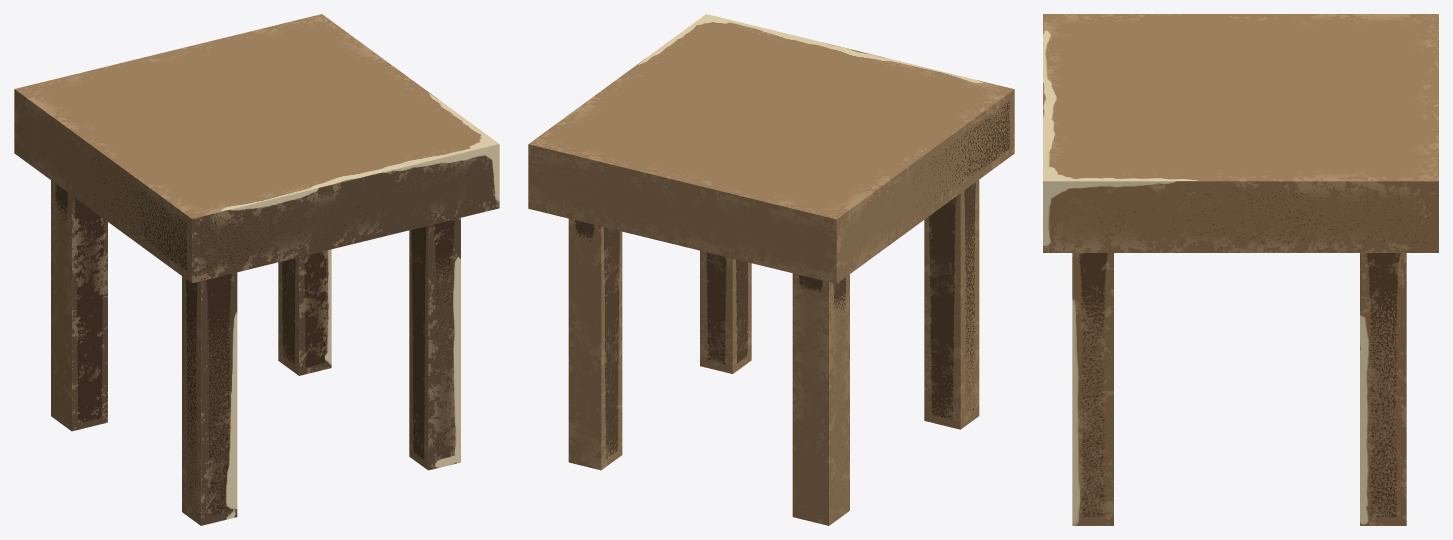
File: level3_Moving1.fbx
3 views of the same model, side by side, from view 1: azimuth 30°, elevation 25°; view 2: azimuth 150°, elevation 25°; view 3: azimuth 270°, elevation 25° (orthographic). The views are drawn at different scales.
Parts seen in each view (by area): view 1: Level3_ForSP:MovingPlatform1; view 2: Level3_ForSP:MovingPlatform1; view 3: Level3_ForSP:MovingPlatform1.
Boxes of the visible parts, x1,y1,x2,y2 form: Level3_ForSP:MovingPlatform1: (14,14,499,525); Level3_ForSP:MovingPlatform1: (528,14,1014,525); Level3_ForSP:MovingPlatform1: (1043,14,1438,525).
Size of the model in its own units: 1 by 1 by 1.
1 material, 1 textured.
